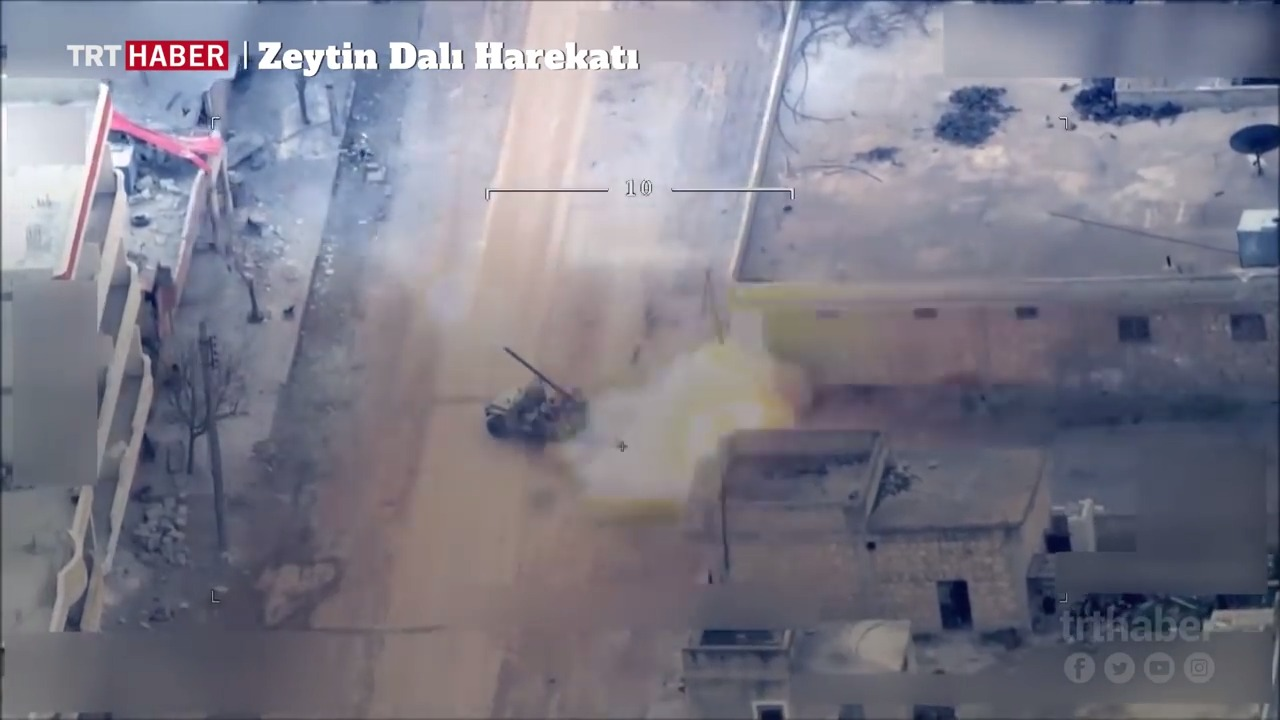arac: (480, 335, 592, 443)
bina: (680, 415, 1096, 641)
